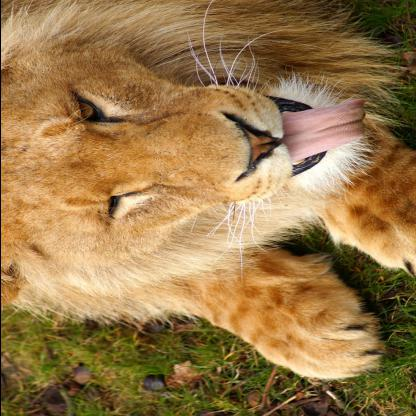lion: (1, 30, 366, 269)
